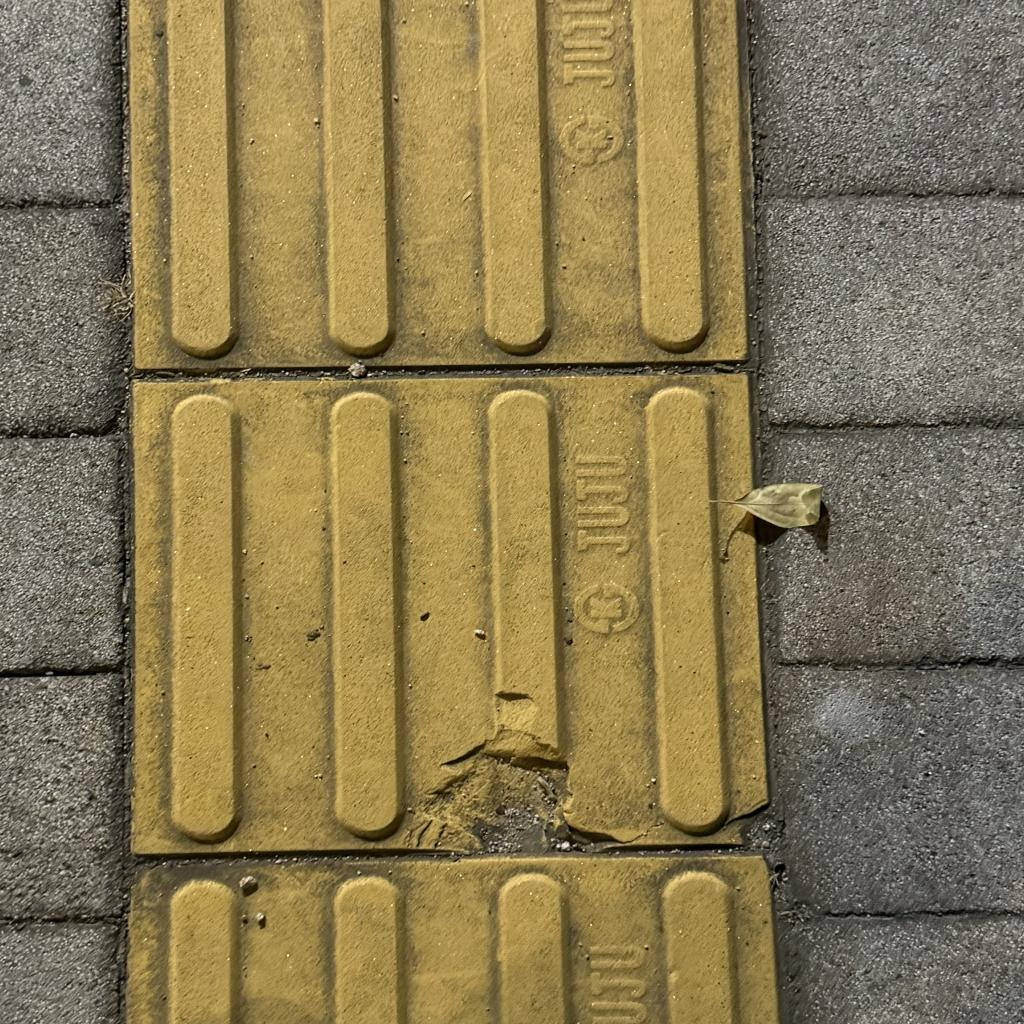Straight block broken: (136, 379, 757, 849)
